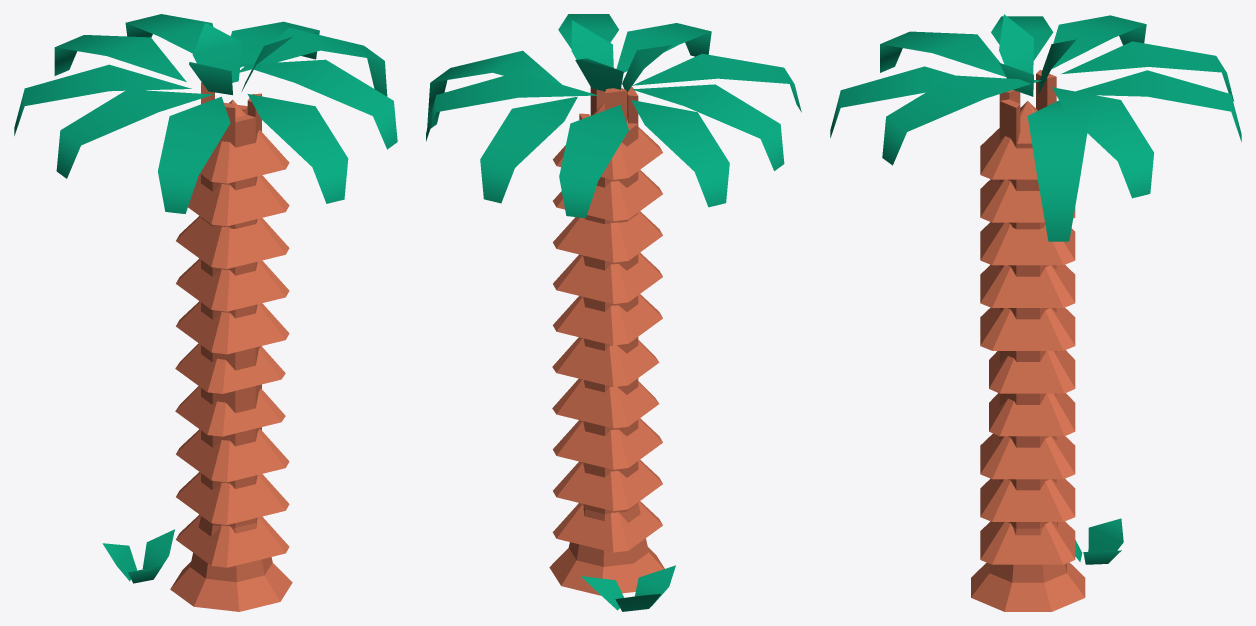
File: PalmA.fbx
The picture shows the model from 3 angles, left to right: view 1: azimuth 30°, elevation 25°; view 2: azimuth 150°, elevation 25°; view 3: azimuth 270°, elevation 25°; orthographic projection. The views are drawn at different scales.
Parts seen in each view (by area): view 1: pyramid_bevel (×10), plant_largeLeaf (×9), trunk_base, plant_small (×2), trunk (×5), trunk_topBroken; view 2: pyramid_bevel (×10), plant_largeLeaf (×9), plant_small (×2), trunk_base, trunk (×4), trunk_topBroken; view 3: pyramid_bevel (×10), plant_largeLeaf (×9), trunk_base, plant_small (×2), trunk (×5), trunk_topBroken.
Part boxes in pixels (<box>): pyramid_bevel (×10): <box>175,99,289,567</box>; plant_largeLeaf (×9): <box>14,14,397,213</box>; trunk_base: <box>170,517,292,611</box>; plant_small (×2): <box>102,22,292,583</box>; trunk (×5): <box>201,174,261,527</box>; trunk_topBroken: <box>201,82,261,147</box>; pyramid_bevel (×10): <box>552,102,662,552</box>; plant_largeLeaf (×9): <box>426,14,801,218</box>; plant_small (×2): <box>571,20,675,611</box>; trunk_base: <box>549,503,664,595</box>; trunk (×4): <box>583,254,638,513</box>; trunk_topBroken: <box>579,87,638,146</box>; pyramid_bevel (×10): <box>980,101,1075,564</box>; plant_largeLeaf (×9): <box>830,15,1241,241</box>; trunk_base: <box>971,522,1085,611</box>; plant_small (×2): <box>999,14,1123,564</box>; trunk (×5): <box>999,179,1056,528</box>; trunk_topBroken: <box>999,70,1056,148</box>.
Size of the model in its own units: 24.99 by 38.4 by 26.14.
